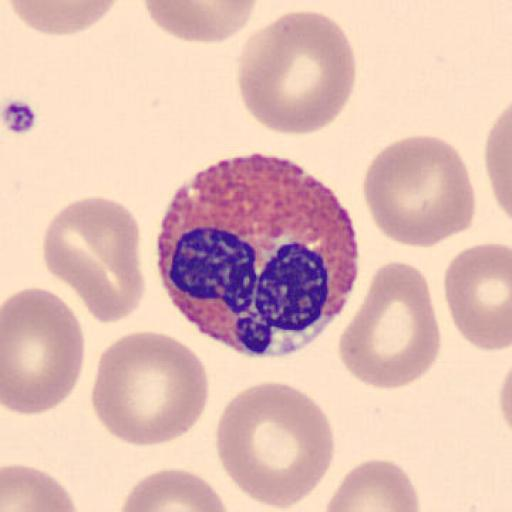RBC: (235, 8, 358, 138), (214, 380, 336, 511), (90, 328, 210, 448), (338, 258, 442, 391), (40, 194, 144, 326), (361, 132, 477, 249), (1, 286, 87, 418), (442, 240, 512, 352), (322, 457, 420, 512), (142, 0, 260, 44), (117, 467, 231, 512), (6, 0, 120, 38), (1, 462, 79, 512), (483, 102, 512, 223), (498, 361, 512, 436)
WBC: (156, 155, 362, 357)
